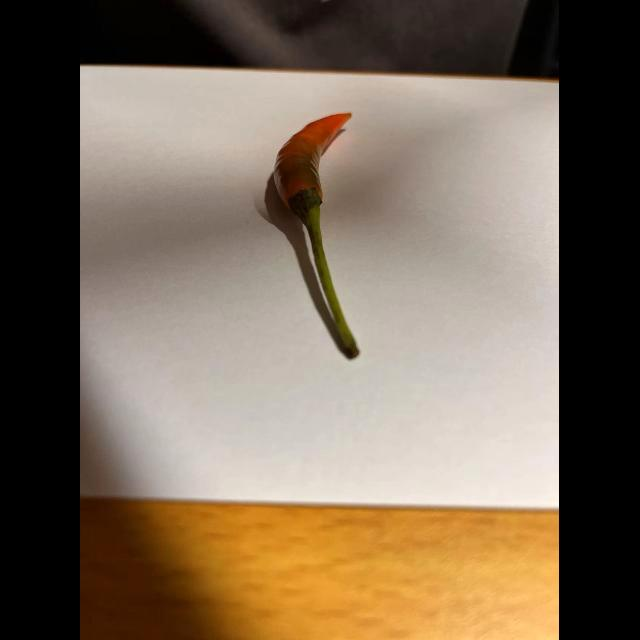chili_pepper: (258, 107, 394, 361)
